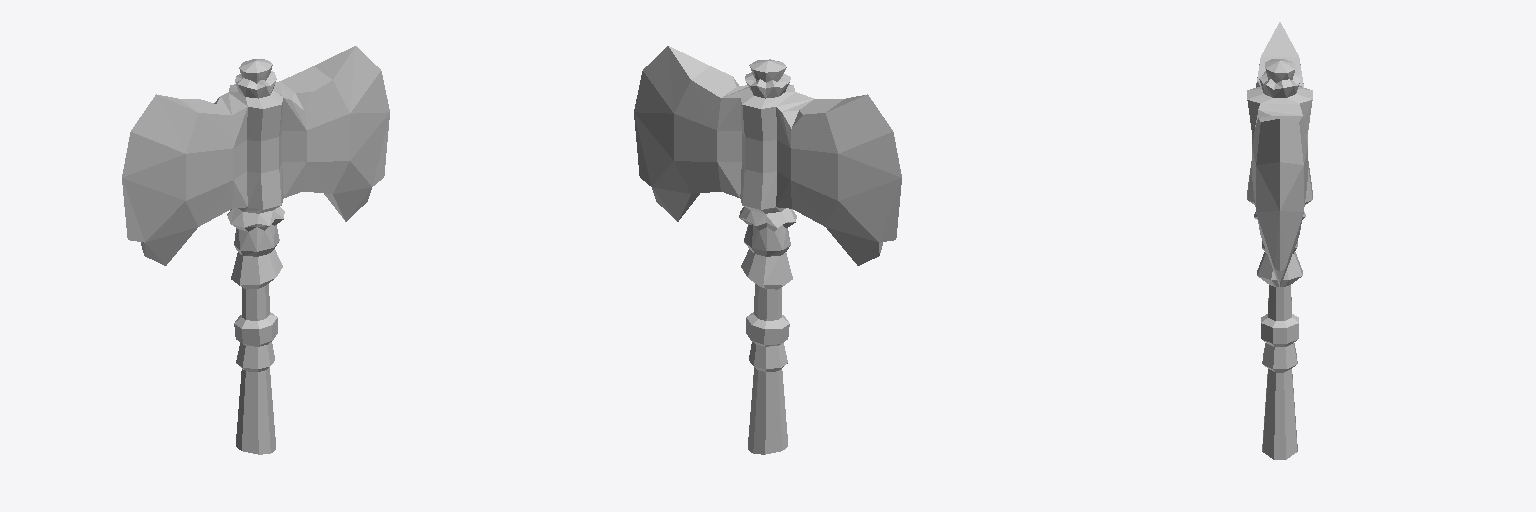
Rendered from axe_2handed_Large.obj.
The picture shows the model from 3 angles: view 1: azimuth 30°, elevation 25°; view 2: azimuth 150°, elevation 25°; view 3: azimuth 270°, elevation 25°; orthographic projection.
Parts seen in each view (by area): view 1: axe_2handed_Large; view 2: axe_2handed_Large; view 3: axe_2handed_Large.
Part boxes in pixels (x1,y1,x2,y2): axe_2handed_Large: (122,46,389,454); axe_2handed_Large: (634,46,901,454); axe_2handed_Large: (1247,22,1312,459).
Bounding box in the file's own units: 2.48 × 3.45 × 0.5236.